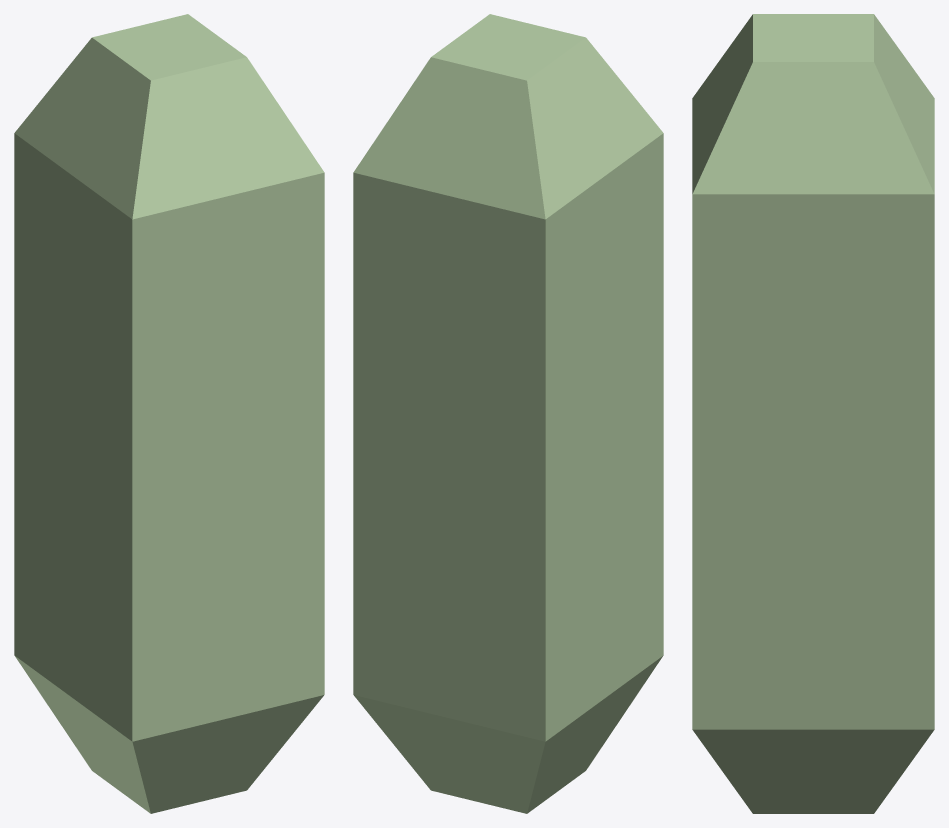
The model's file is SoldierMutant-UpperLeg.fbx.
3 renders of one model, left to right at view 1: azimuth 30°, elevation 25°; view 2: azimuth 150°, elevation 25°; view 3: azimuth 270°, elevation 25°, orthographic. The views are drawn at different scales.
Parts seen in each view (by area): view 1: SoldierMutantUpperLeg; view 2: SoldierMutantUpperLeg; view 3: SoldierMutantUpperLeg.
Boxes of the visible parts, x1,y1,x2,y2 form: SoldierMutantUpperLeg: (14, 14, 324, 813); SoldierMutantUpperLeg: (353, 14, 663, 813); SoldierMutantUpperLeg: (692, 14, 934, 813).
Size of the model in its own units: 0.1568 by 0.5717 by 0.1668.
